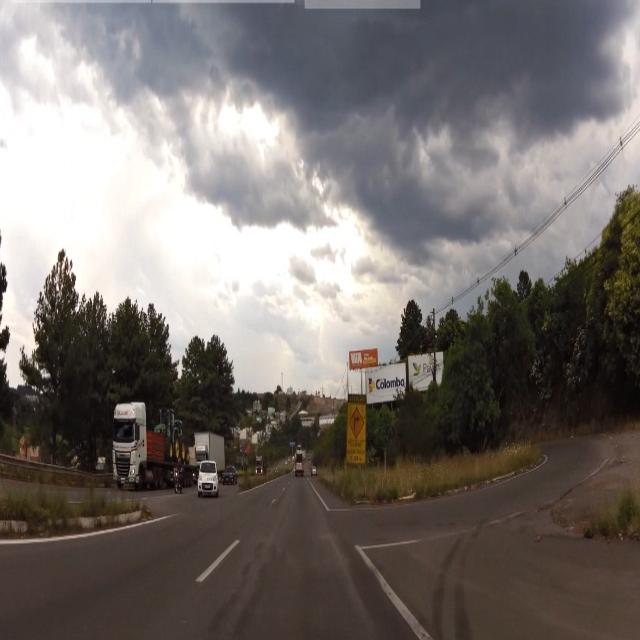A-1b: (350, 406, 364, 439)
